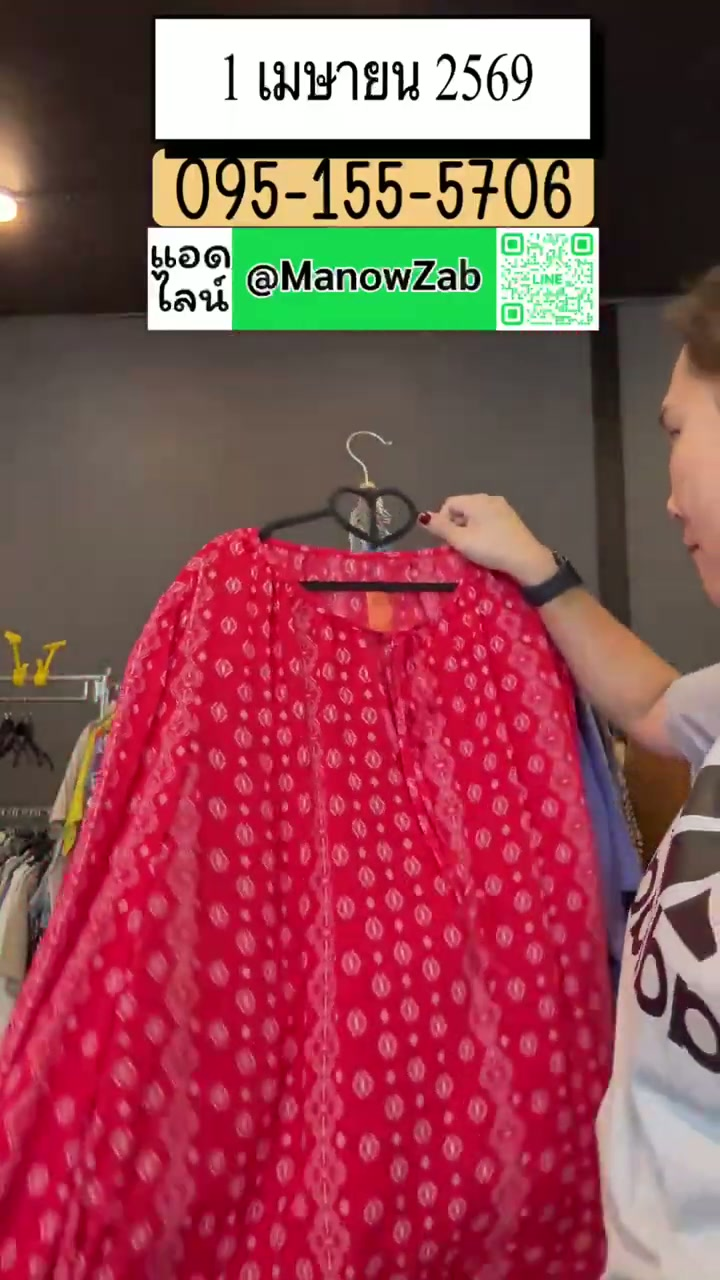display_shirt: (0, 529, 613, 1279), (0, 530, 611, 1279)
